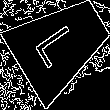L_NE: (34, 18, 88, 71)
